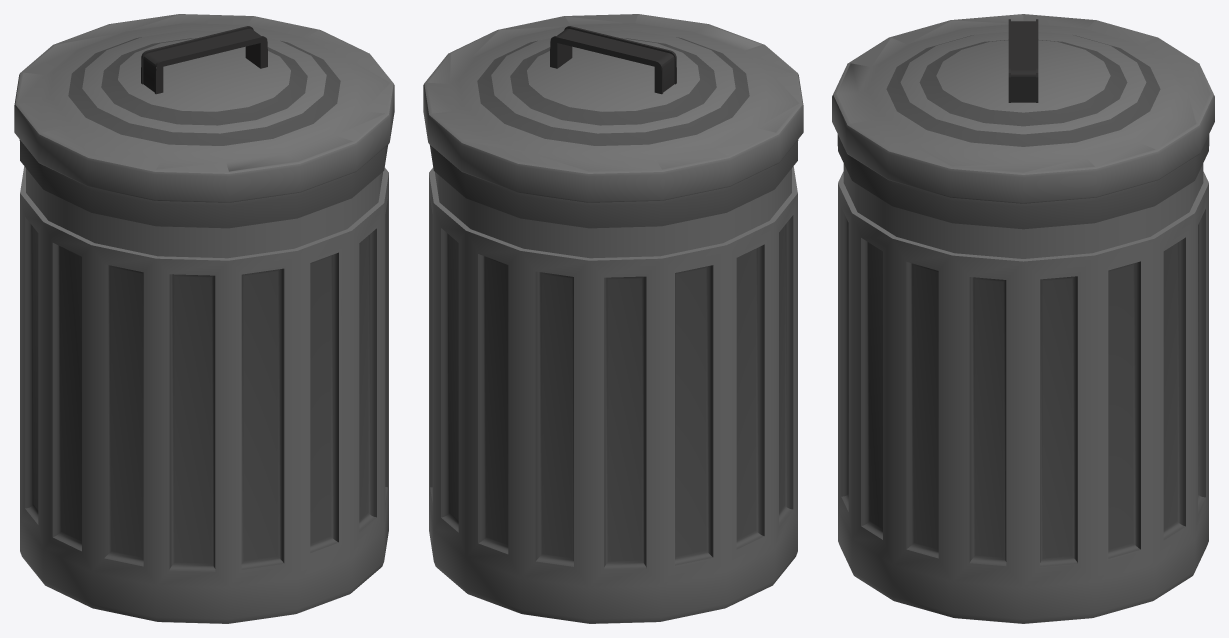
Rendered from Bin.fbx.
3 renders of one model, left to right at view 1: azimuth 30°, elevation 25°; view 2: azimuth 150°, elevation 25°; view 3: azimuth 270°, elevation 25°, orthographic.
Parts seen in each view (by area): view 1: Bin; view 2: Bin; view 3: Bin.
Part boxes in pixels (x1=…): Bin: x1=14, y1=14, x2=394, y2=623; Bin: x1=423, y1=14, x2=803, y2=623; Bin: x1=832, y1=14, x2=1214, y2=623.
Size of the model in its own units: 47.96 by 69.64 by 47.96.
1 material, 1 textured.
